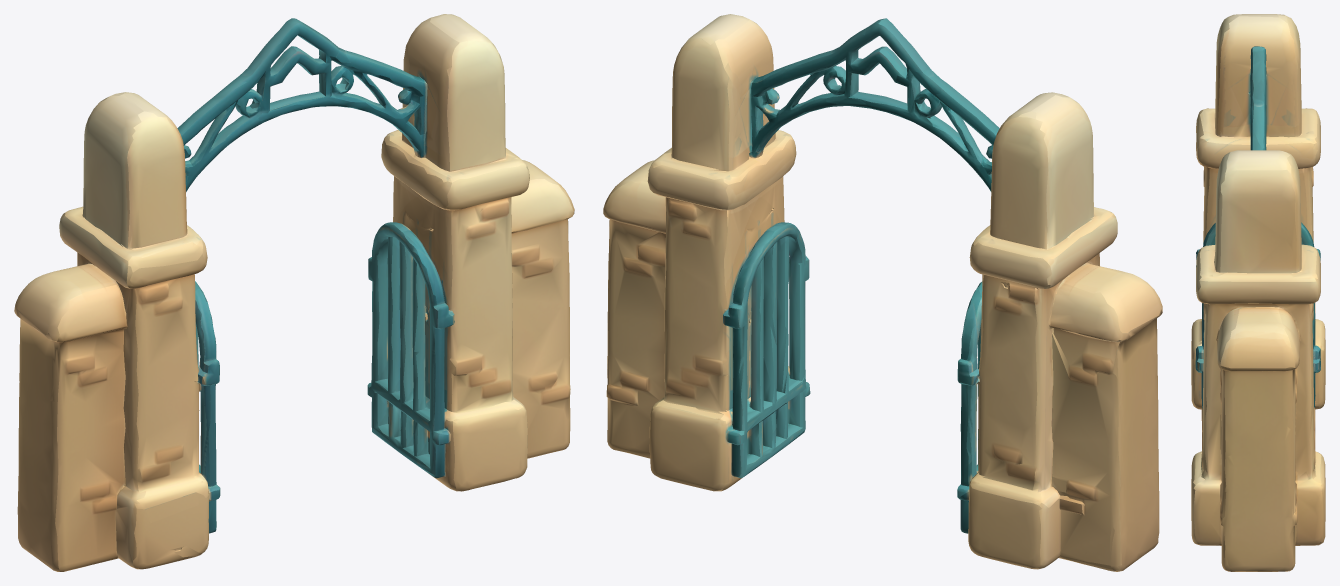
The model's file is SchoolGate.glb.
3 renders of one model, left to right at view 1: azimuth 30°, elevation 25°; view 2: azimuth 150°, elevation 25°; view 3: azimuth 270°, elevation 25°, orthographic. The views are drawn at different scales.
Visible parts, largest first — view 1: geometry_0; view 2: geometry_0; view 3: geometry_0.
Part boxes in pixels (box(x1,y1,x2,y2)): geometry_0: box(14, 14, 574, 571); geometry_0: box(603, 14, 1162, 571); geometry_0: box(1191, 14, 1325, 571).
Bounding box in the file's own units: 0.25 × 0.2179 × 0.0633.
1 material, 1 textured.
